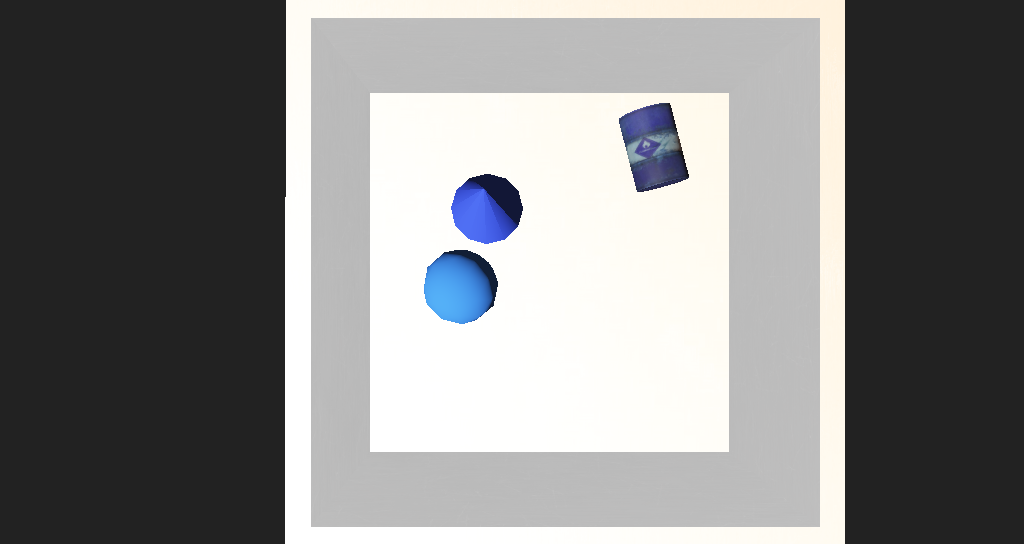cone: (559, 169, 627, 222)
cylinder: (421, 198, 482, 251)
sphere: (401, 253, 461, 301)
